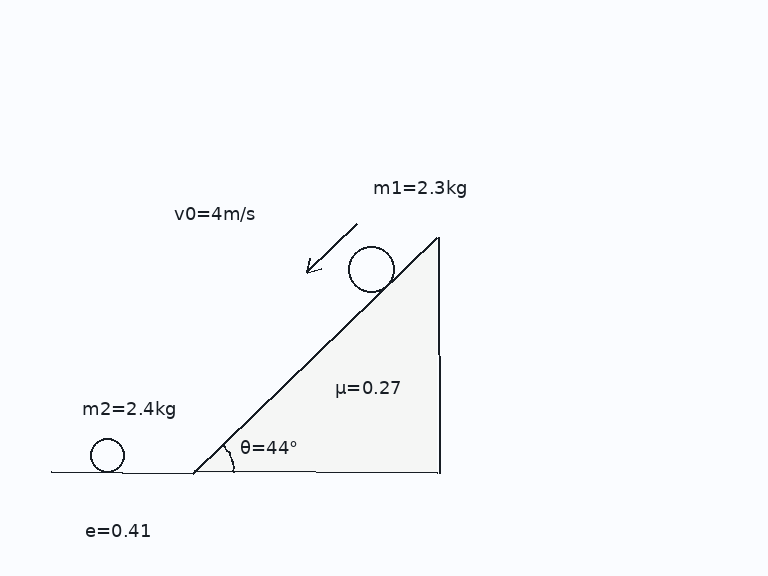ball: (346, 244, 396, 294), (88, 436, 126, 474)
ramp: (192, 236, 438, 474)
